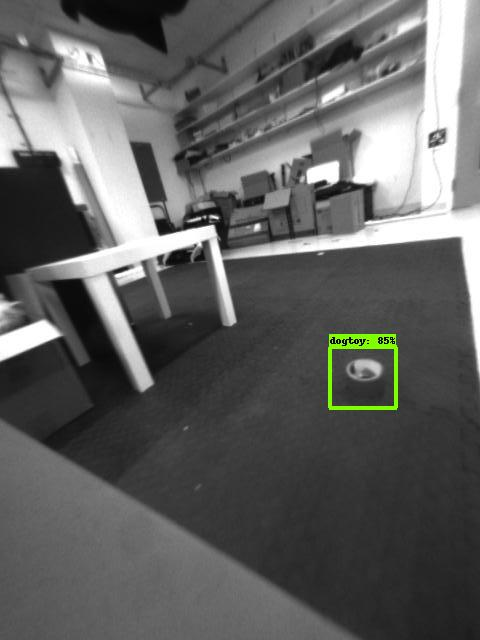dogtoy: (322, 349, 395, 402)
